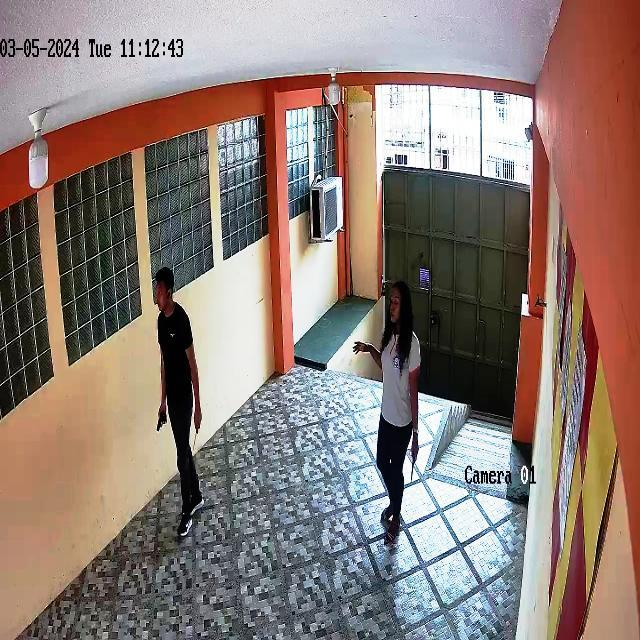Gun: (150, 405, 182, 438)
Knife: (408, 443, 429, 496)
